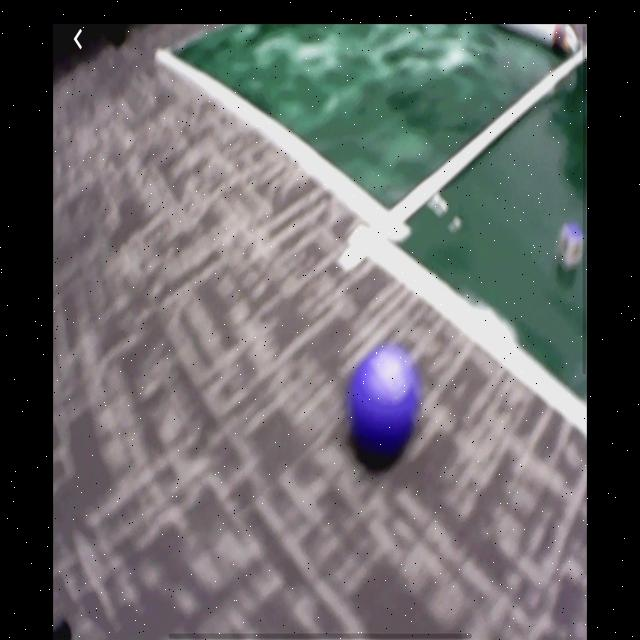ball: (350, 348, 421, 456)
